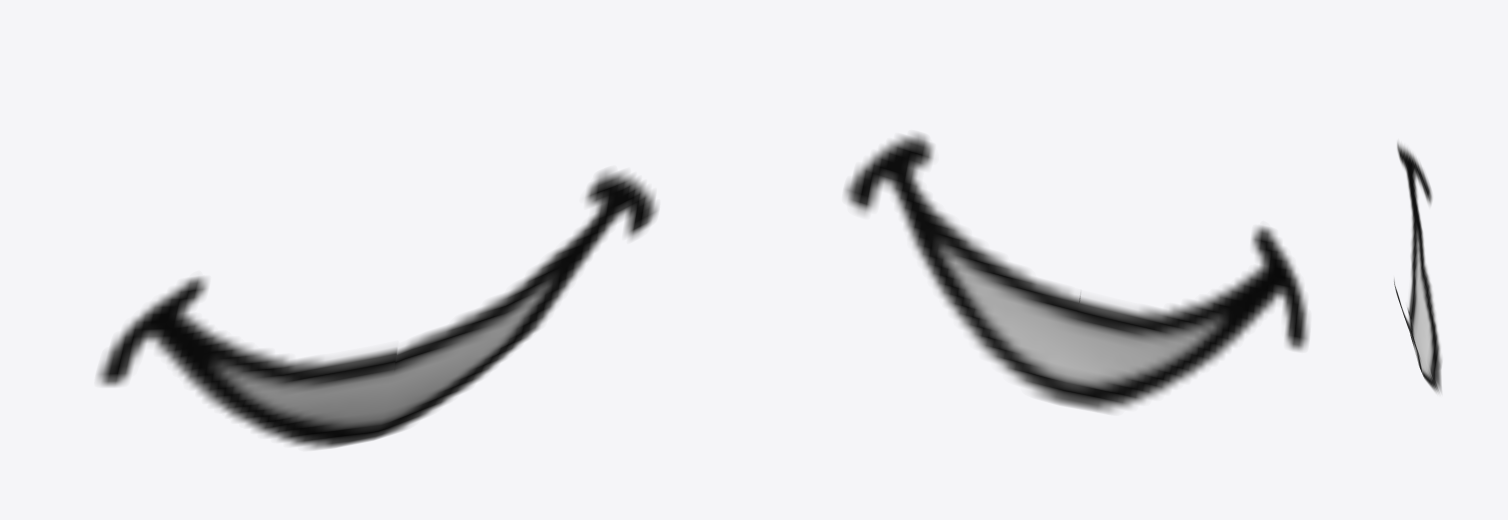
Rendered from Smile 2.glb.
3 views of the same model, side by side, from view 1: azimuth 30°, elevation 25°; view 2: azimuth 150°, elevation 25°; view 3: azimuth 270°, elevation 25° (orthographic). The views are drawn at different scales.
Visible parts, largest first — view 1: smile_2; view 2: smile_2; view 3: smile_2.
Part boxes in pixels (x1,y1,x2,y2): smile_2: (97, 170, 657, 449); smile_2: (844, 133, 1308, 413); smile_2: (1394, 141, 1441, 394).
Bounding box in the file's own units: 0.00271 × 0.0016 × 0.000539.
1 material, 1 textured.
